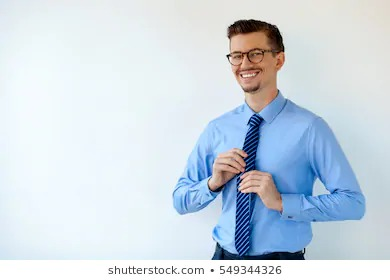F_shirt: (169, 91, 372, 252)
F_tie: (233, 113, 263, 255)
